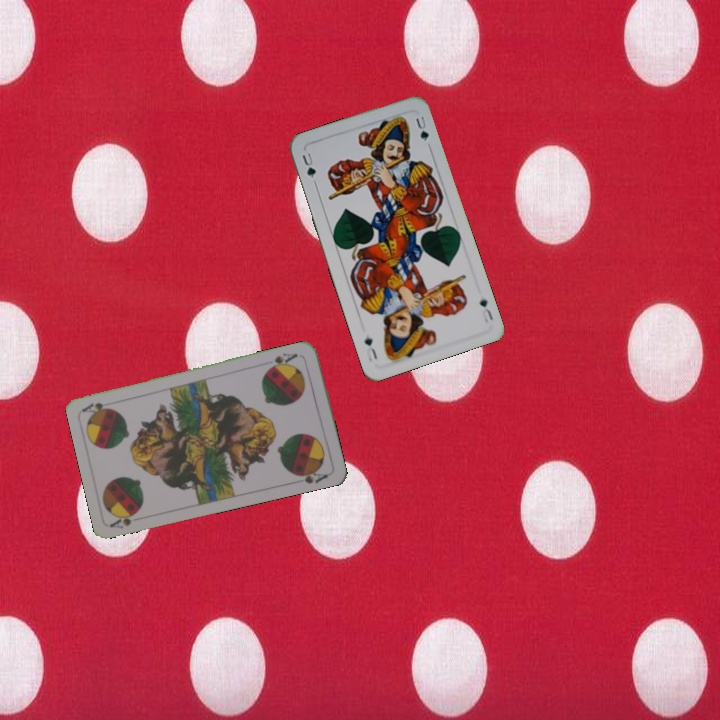GU: (298, 148, 319, 181), (475, 294, 496, 325)
SA: (264, 349, 303, 372), (107, 506, 142, 531)
